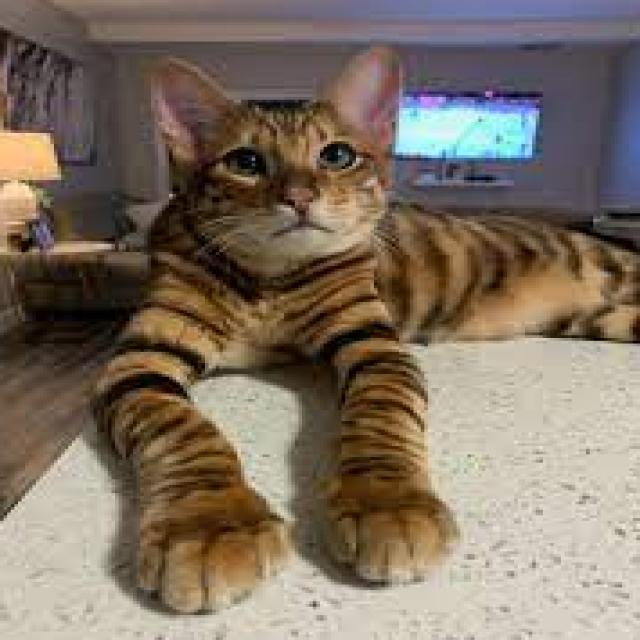Toyger: (86, 36, 640, 615)
